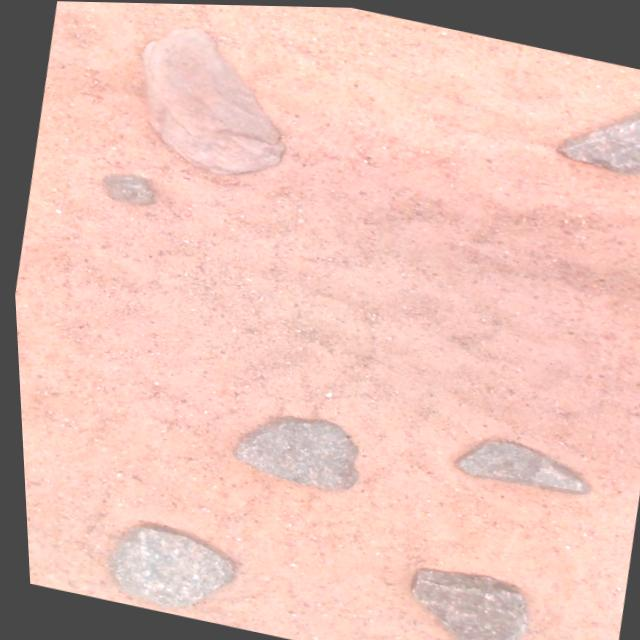rock: (141, 27, 281, 173), (102, 526, 226, 605), (229, 415, 351, 486), (404, 567, 519, 640), (449, 439, 583, 491), (554, 112, 640, 171), (99, 173, 150, 203)
